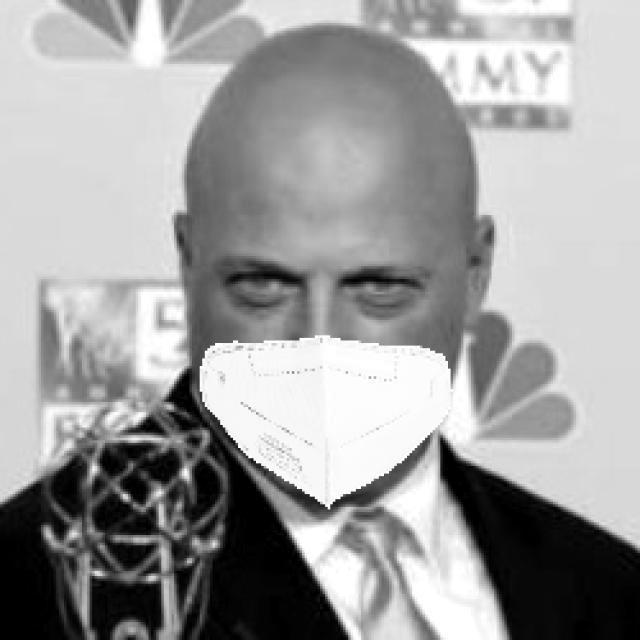no_gloves: (161, 23, 500, 297)
